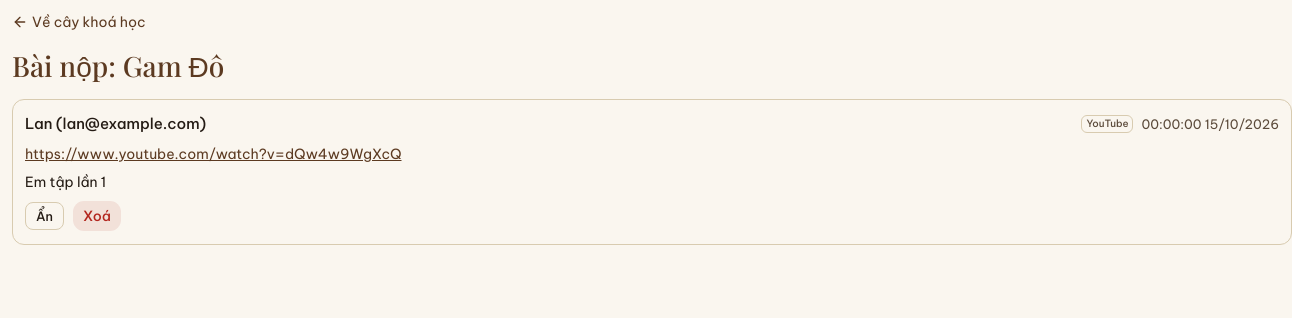
Test: Bài nộp của khách (C3) › lỗi 403 khi ẩn hiện thông báo lỗi
Step 1. Click the button with aria-label "Ẩn bài nộp của Lan (lan@example.com)" → (44, 216), box x1=25 y1=202 x2=64 y2=230
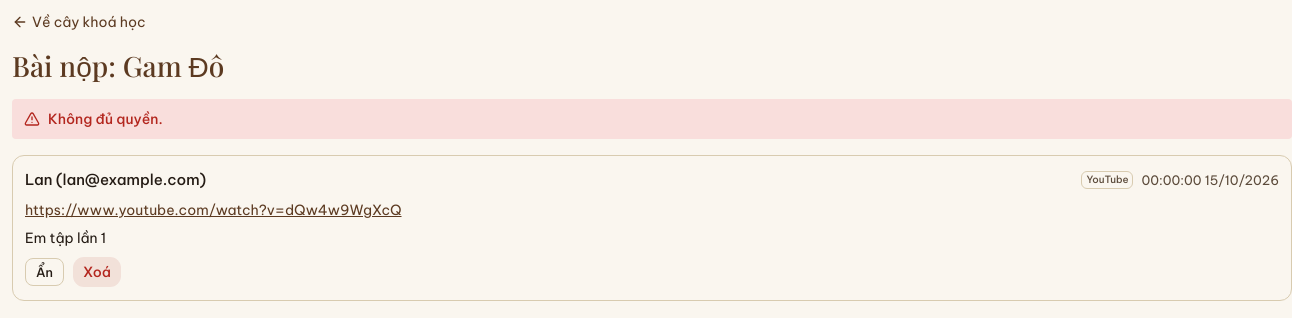
Expected: the text "Không đủ quyền." is shown, x1=48 y1=109 x2=163 y2=129
